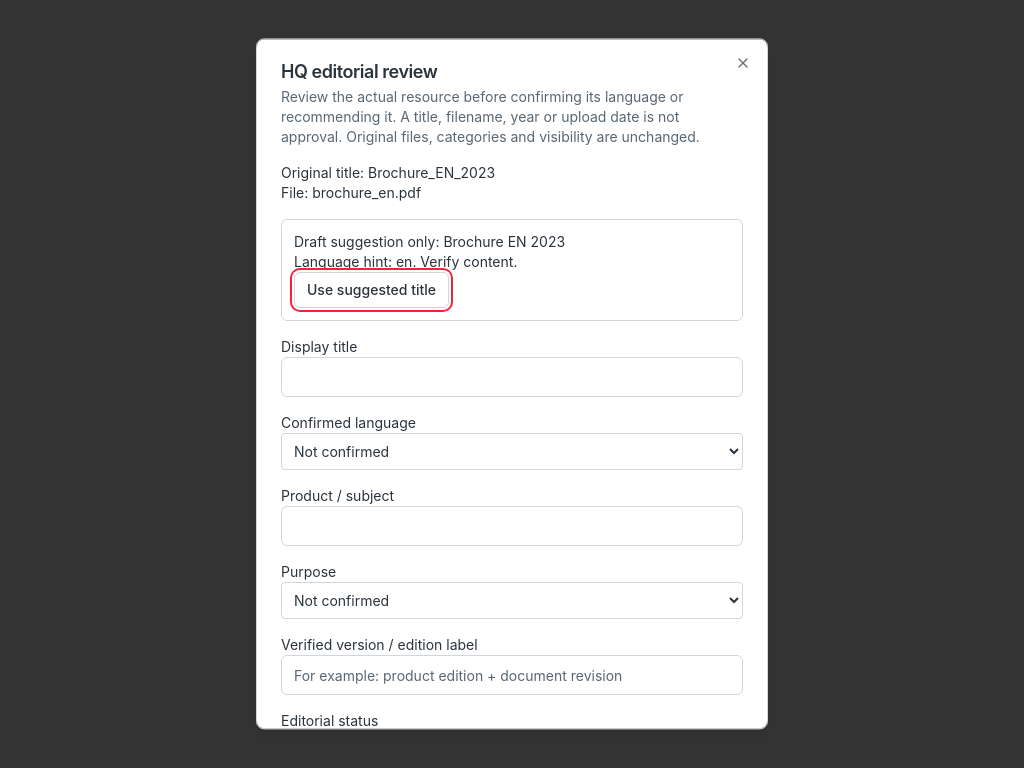
Test case: HQ editorial review dialog › uses only a proposed display title without approving the resource
Click the button "Use suggested title" at (372, 290), box [294, 272, 449, 308]
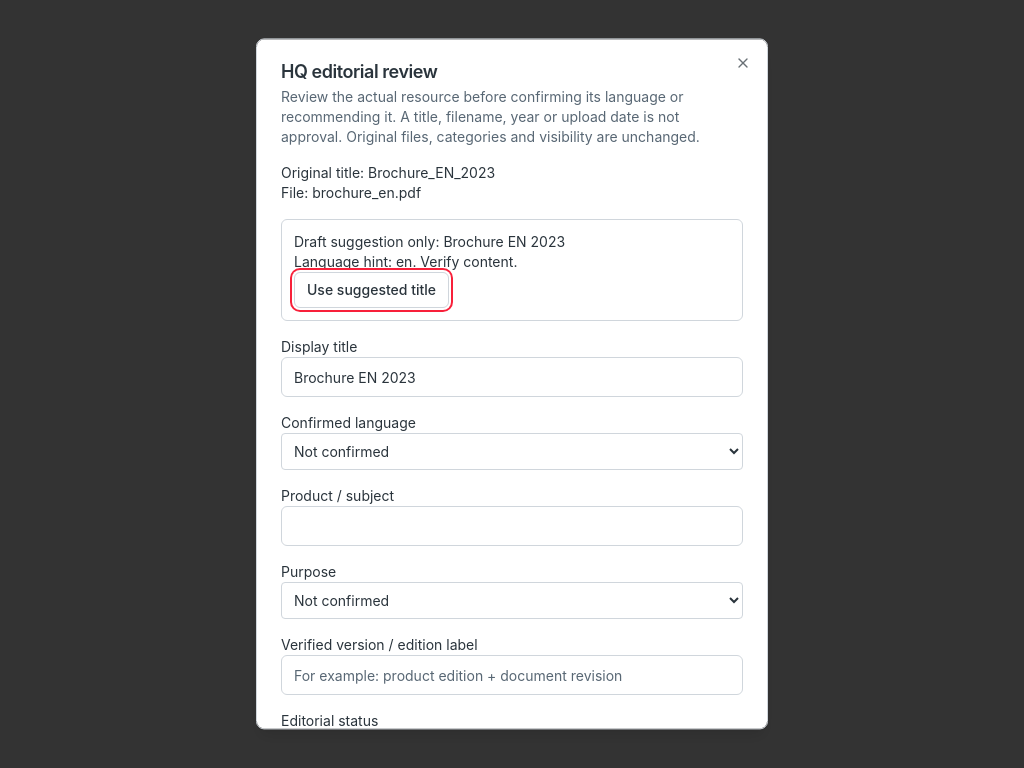
Expected: the dropdown labelled "Confirmed language" shows "Not confirmed", [281, 433, 743, 470]
Result: the field labelled "Display title" holds "Brochure EN 2023" at [281, 357, 743, 397]
